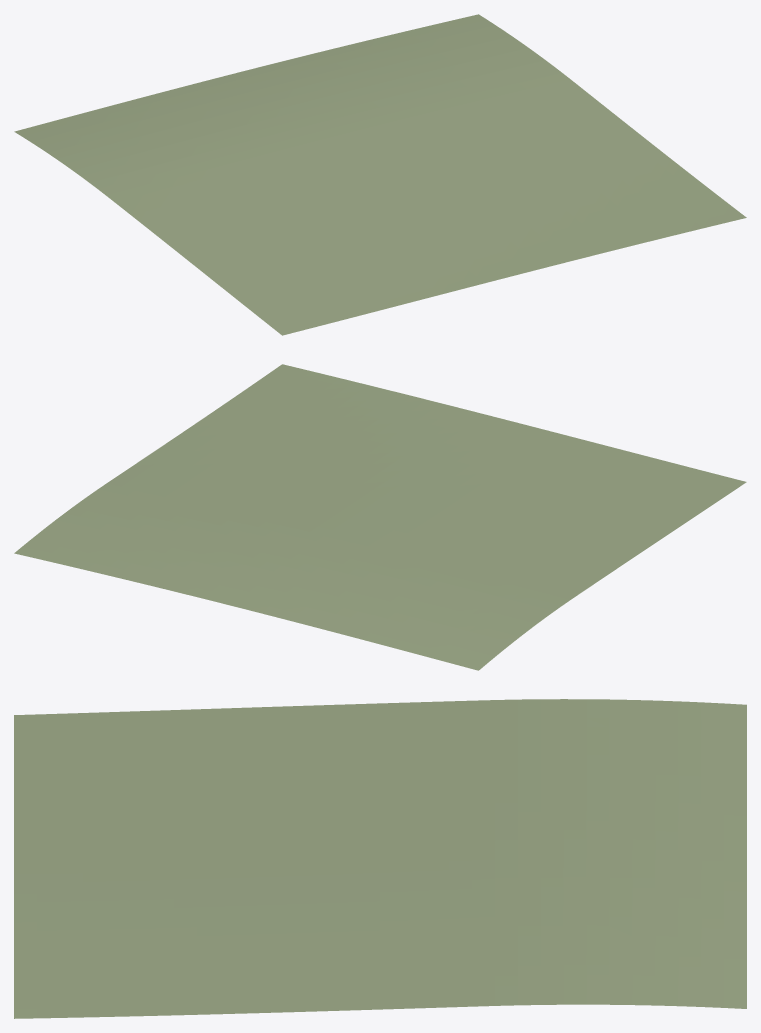
The model's file is expanse-29-7.glb.
3 renders of one model, top to bottom at view 1: azimuth 30°, elevation 25°; view 2: azimuth 150°, elevation 25°; view 3: azimuth 270°, elevation 25°, orthographic. The views are drawn at different scales.
Parts seen in each view (by area): view 1: expanse-29-7; view 2: expanse-29-7; view 3: expanse-29-7.
Boxes of the visible parts, left/top/right/bottom form: expanse-29-7: left=14, top=14, right=746, bottom=335; expanse-29-7: left=14, top=364, right=746, bottom=670; expanse-29-7: left=14, top=699, right=746, bottom=1018.
Bounding box in the file's own units: 256 × 8.4 × 256.
